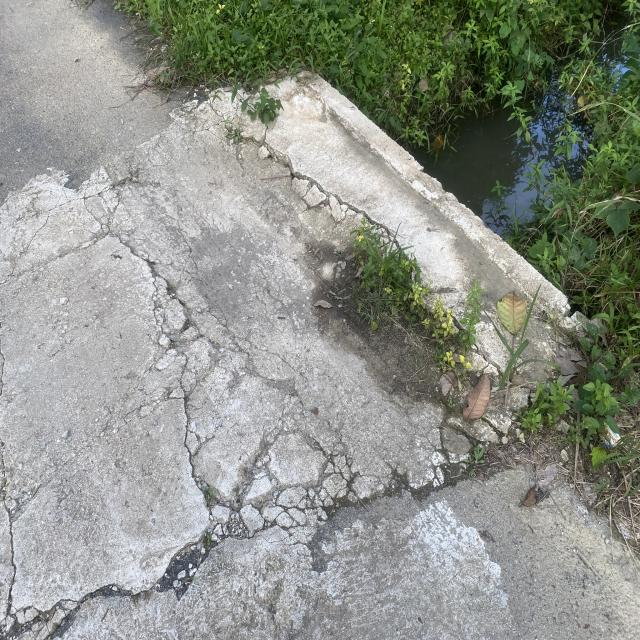Pothole: (54, 253, 302, 580), (219, 99, 402, 304)
